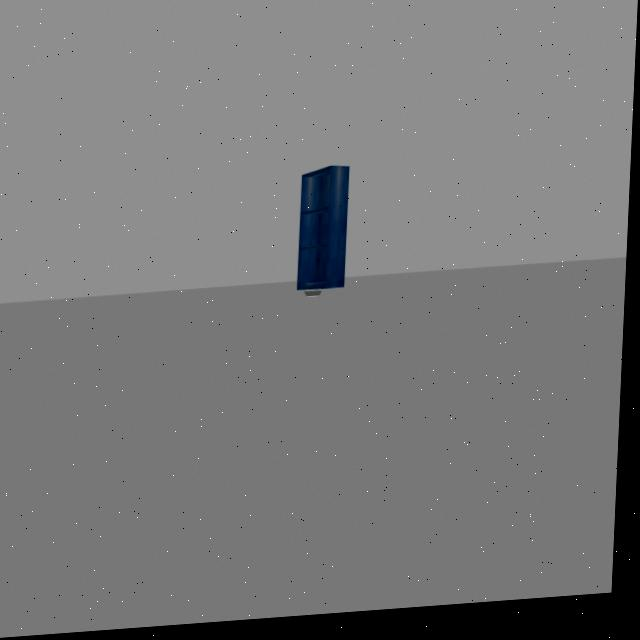bowl: (306, 294, 327, 307)
shelf: (296, 167, 353, 299)
